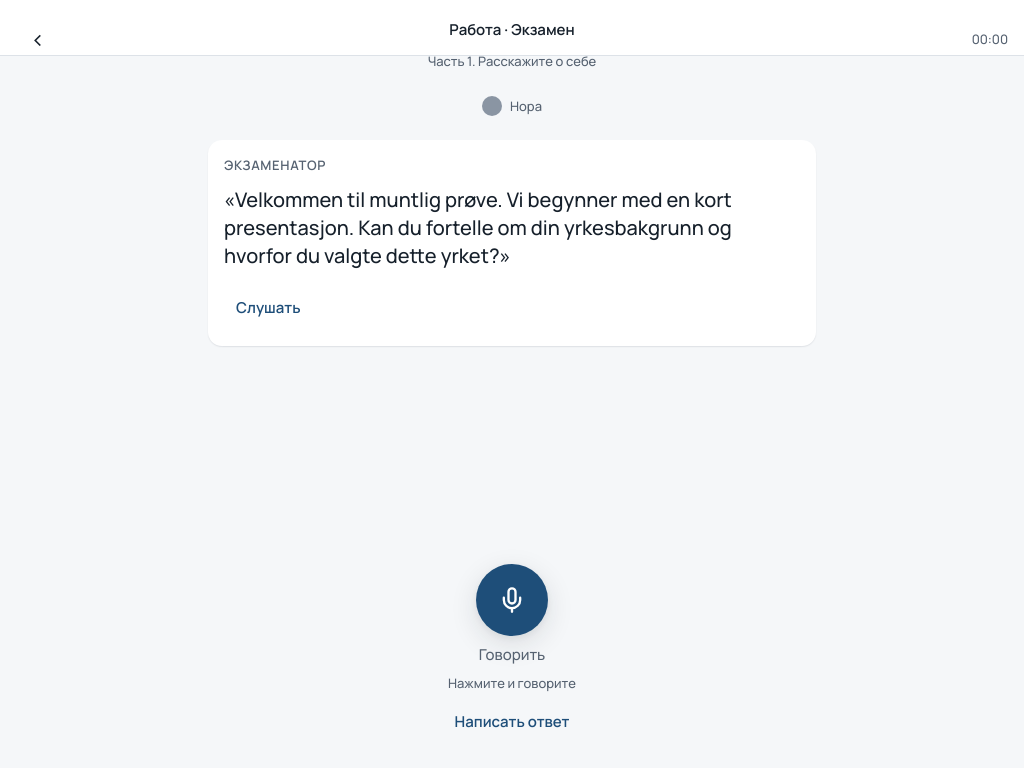
Test: PracticeScreen (/practice, Issue #53) › 10. Exam mode hides translation and hints, and allows listen at most once
The width and height of the screenshot is (1024, 768).
Check: the button "Работа · Экзамен" is shown, box [436,8,588,52]
Click the button "Слушать".
click(268, 308)  # box [224,286,313,330]
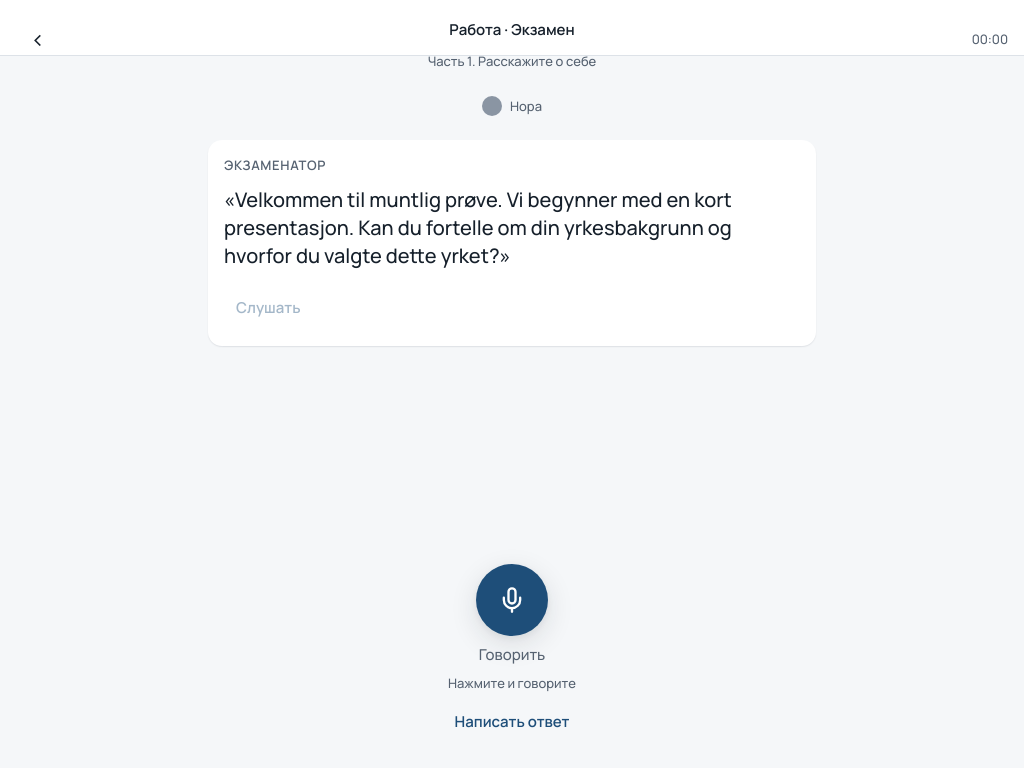
Check: the button "Слушать" is disabled, box [224,286,313,330]
